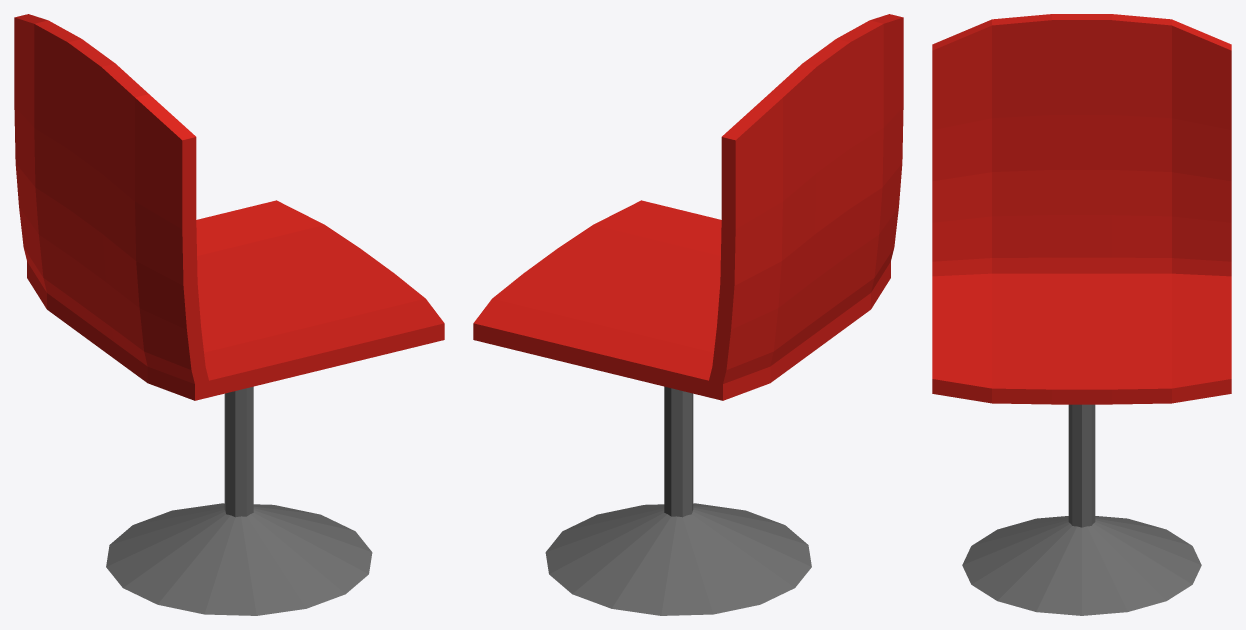
The model's file is Chairred.fbx.
3 renders of one model, left to right at view 1: azimuth 30°, elevation 25°; view 2: azimuth 150°, elevation 25°; view 3: azimuth 270°, elevation 25°, orthographic. The views are drawn at different scales.
Visible parts, largest first — view 1: Cube; view 2: Cube; view 3: Cube.
Part boxes in pixels (box(x1,y1,x2,y2)): Cube: box(14, 14, 444, 615); Cube: box(473, 14, 903, 615); Cube: box(932, 14, 1231, 615).
Size of the model in its own units: 202 by 357 by 200.
